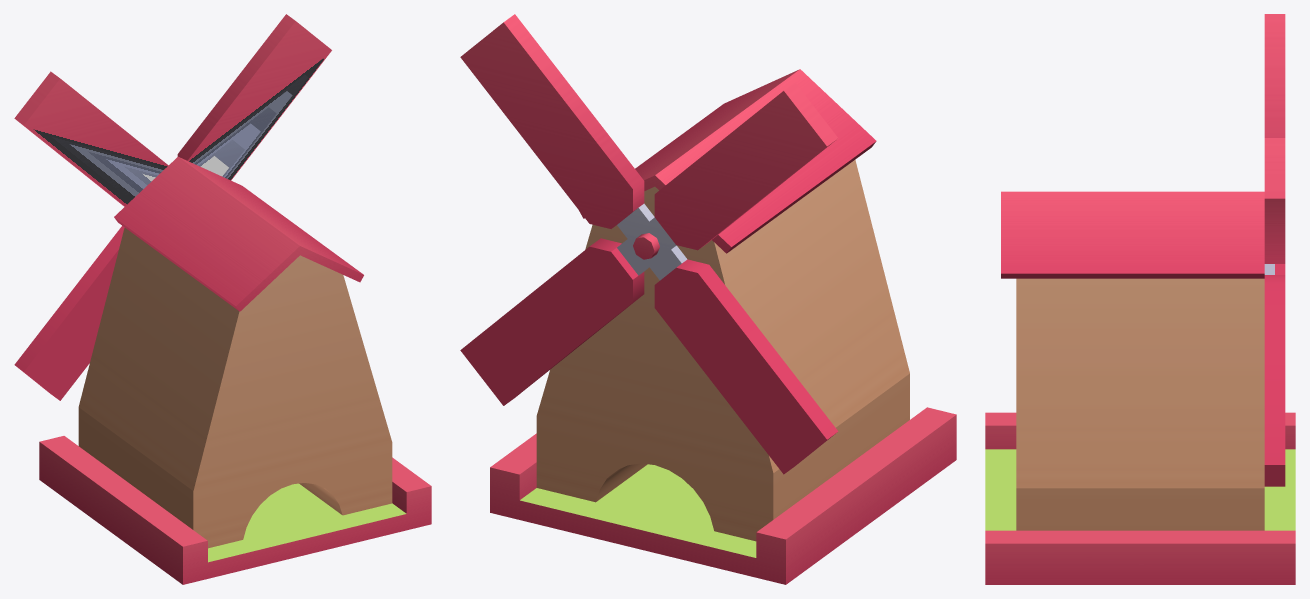
Rendered from windmill.fbx.
3 renders of one model, left to right at view 1: azimuth 30°, elevation 25°; view 2: azimuth 150°, elevation 25°; view 3: azimuth 270°, elevation 25°, orthographic. The views are drawn at different scales.
Parts seen in each view (by area): view 1: windmill, blades; view 2: windmill, blades; view 3: windmill, blades.
Boxes of the visible parts, x1=… form: windmill: x1=39, y1=156, x2=431, y2=584; blades: x1=14, y1=14, x2=331, y2=400; windmill: x1=490, y1=69, x2=956, y2=584; blades: x1=460, y1=14, x2=838, y2=474; windmill: x1=985, y1=191, x2=1295, y2=584; blades: x1=1264, y1=14, x2=1285, y2=486.
Size of the model in its own units: 124 by 158 by 99.99.
